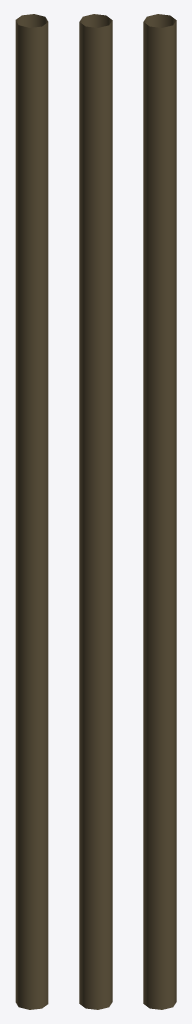
File: rep helt klar.fbx
The picture shows the model from 3 angles, left to right: view 1: azimuth 90°, elevation 25°; view 2: azimuth 150°, elevation 25°; view 3: azimuth 330°, elevation 25°; orthographic projection.
Parts seen in each view (by area): view 1: rope; view 2: rope; view 3: rope.
Part boxes in pixels (left/top/right/bottom): rope: left=15, top=14, right=48, bottom=1009; rope: left=79, top=14, right=112, bottom=1009; rope: left=143, top=14, right=176, bottom=1009.
Size of the model in its own units: 32.67 by 1074 by 32.67.
